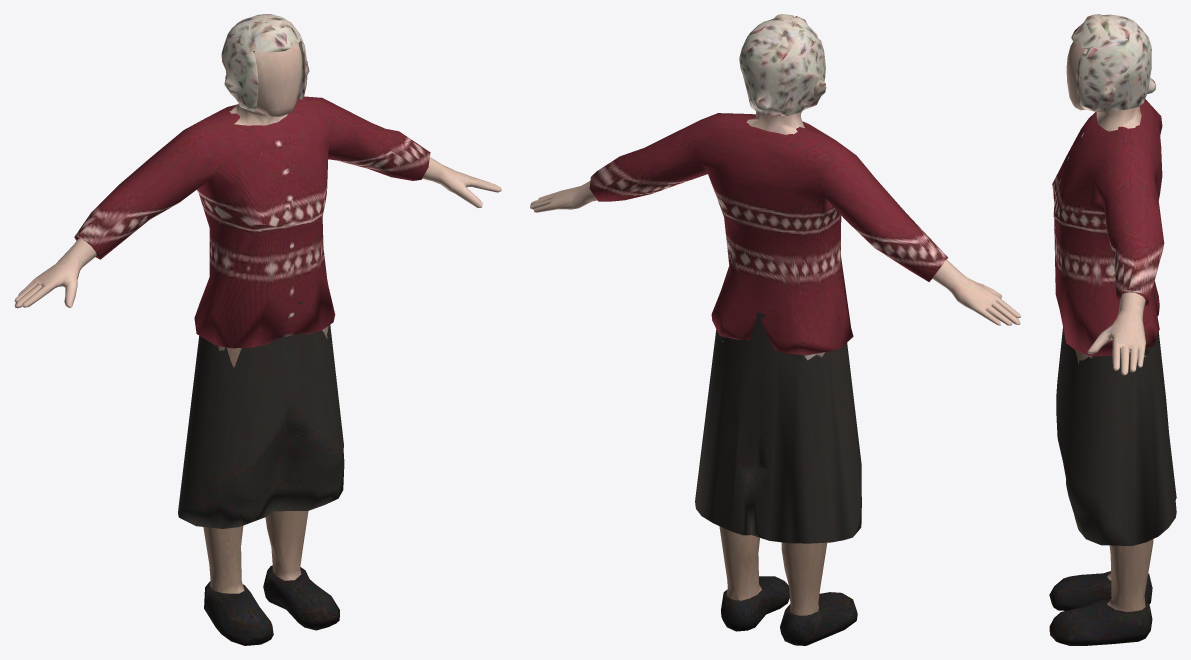
File: npc_x_grandma2.glb
3 renders of one model, left to right at view 1: azimuth 30°, elevation 25°; view 2: azimuth 150°, elevation 25°; view 3: azimuth 270°, elevation 25°, orthographic.
Visible parts, largest first — view 1: Human; view 2: Human; view 3: Human.
Part boxes in pixels (left/top/right/bottom): Human: left=14, top=14, right=501, bottom=645; Human: left=530, top=14, right=1020, bottom=645; Human: left=1049, top=14, right=1176, bottom=645.
Bounding box in the file's own units: 1.39 × 1.64 × 0.3127.
1 material, 1 textured.
